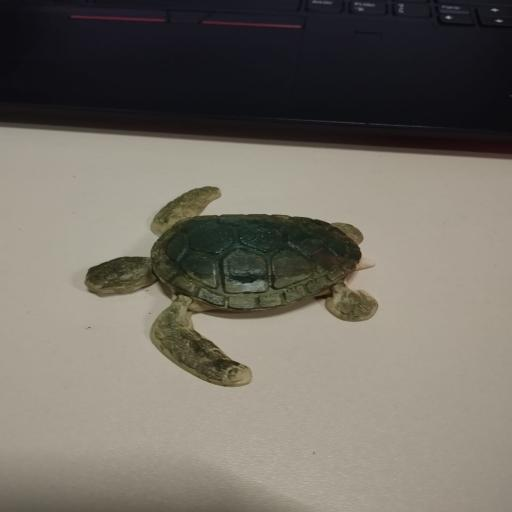Tugarin-modelo1: (85, 187, 378, 386)
